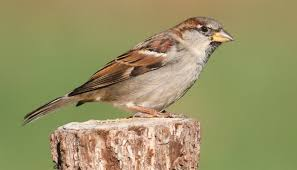hsparrow: (21, 13, 238, 131)
